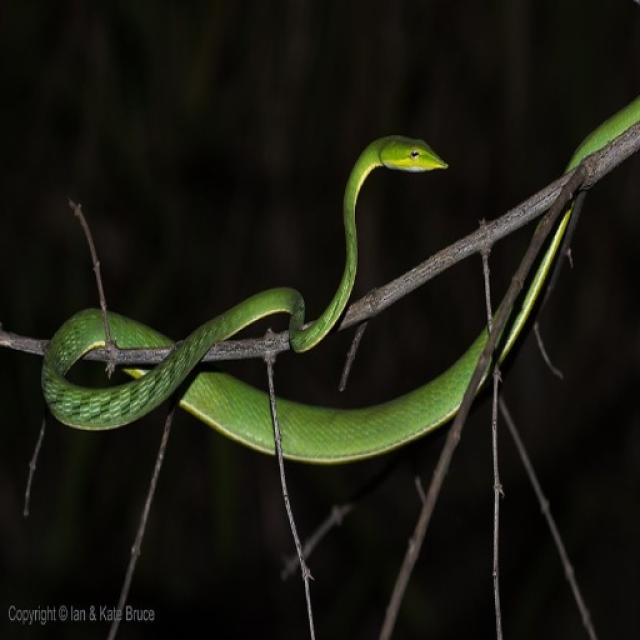snake: (35, 114, 640, 484)
